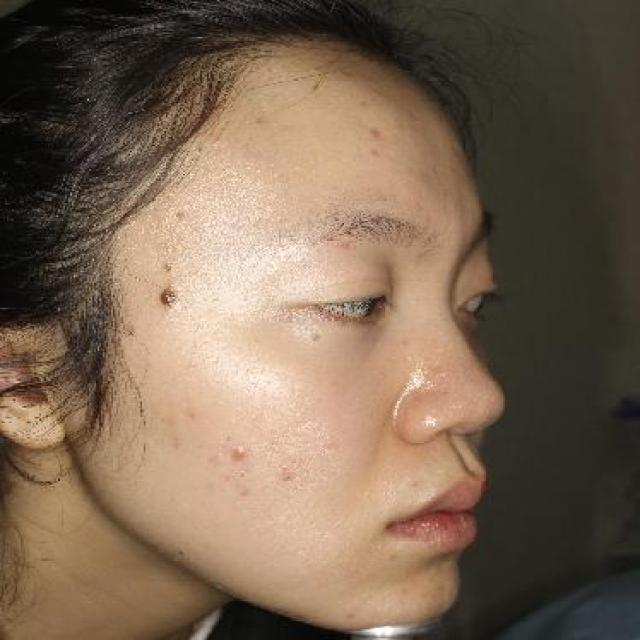dark spot: (272, 460, 301, 492), (154, 252, 187, 274), (366, 122, 392, 142), (364, 143, 392, 159)
papules: (226, 437, 257, 471)
